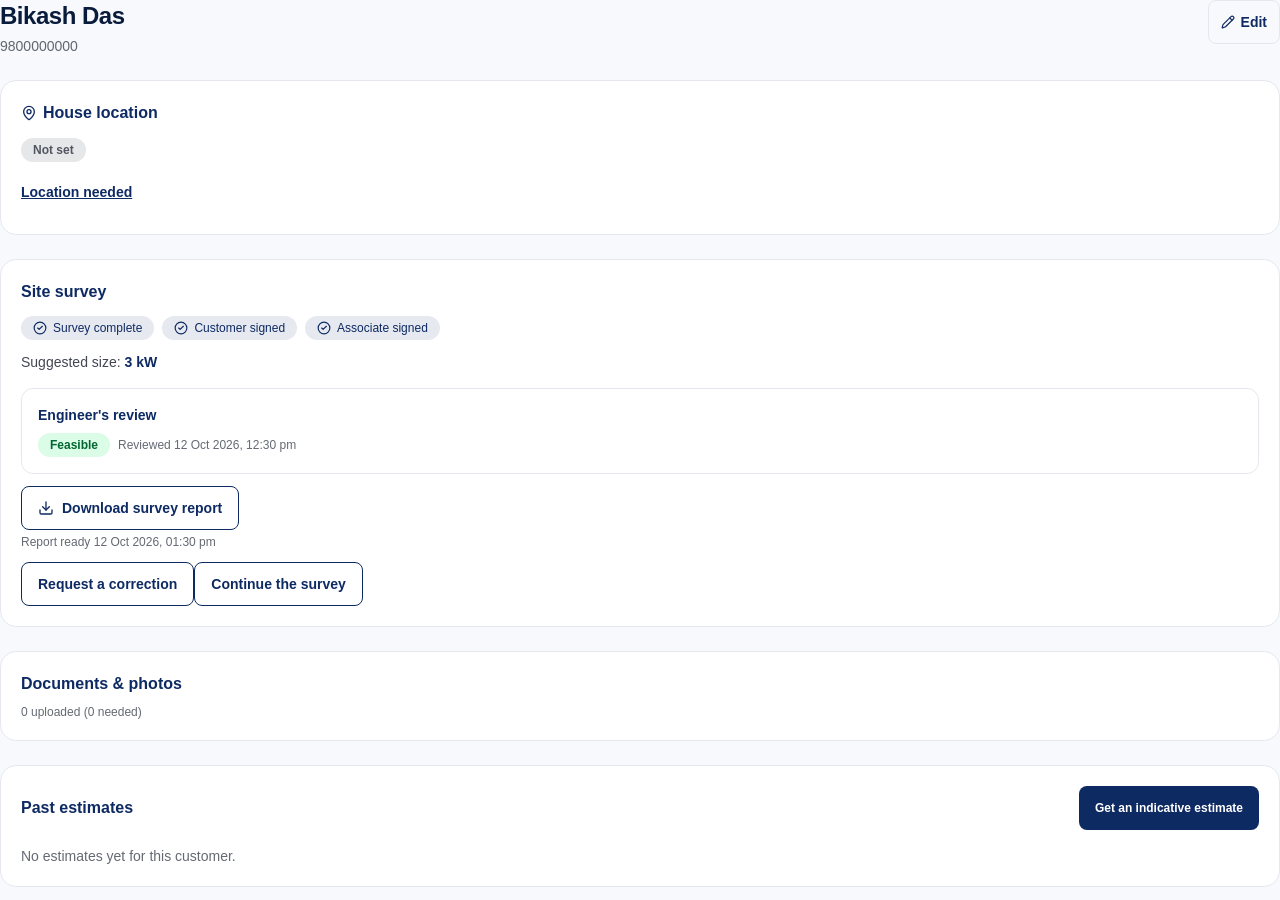
Test case: Report download (owner only) › translates 404 report_not_generated to plain text
This screenshot has width=1280, height=900.
Click the button "Download survey report": (130,508) [21,486,239,530]
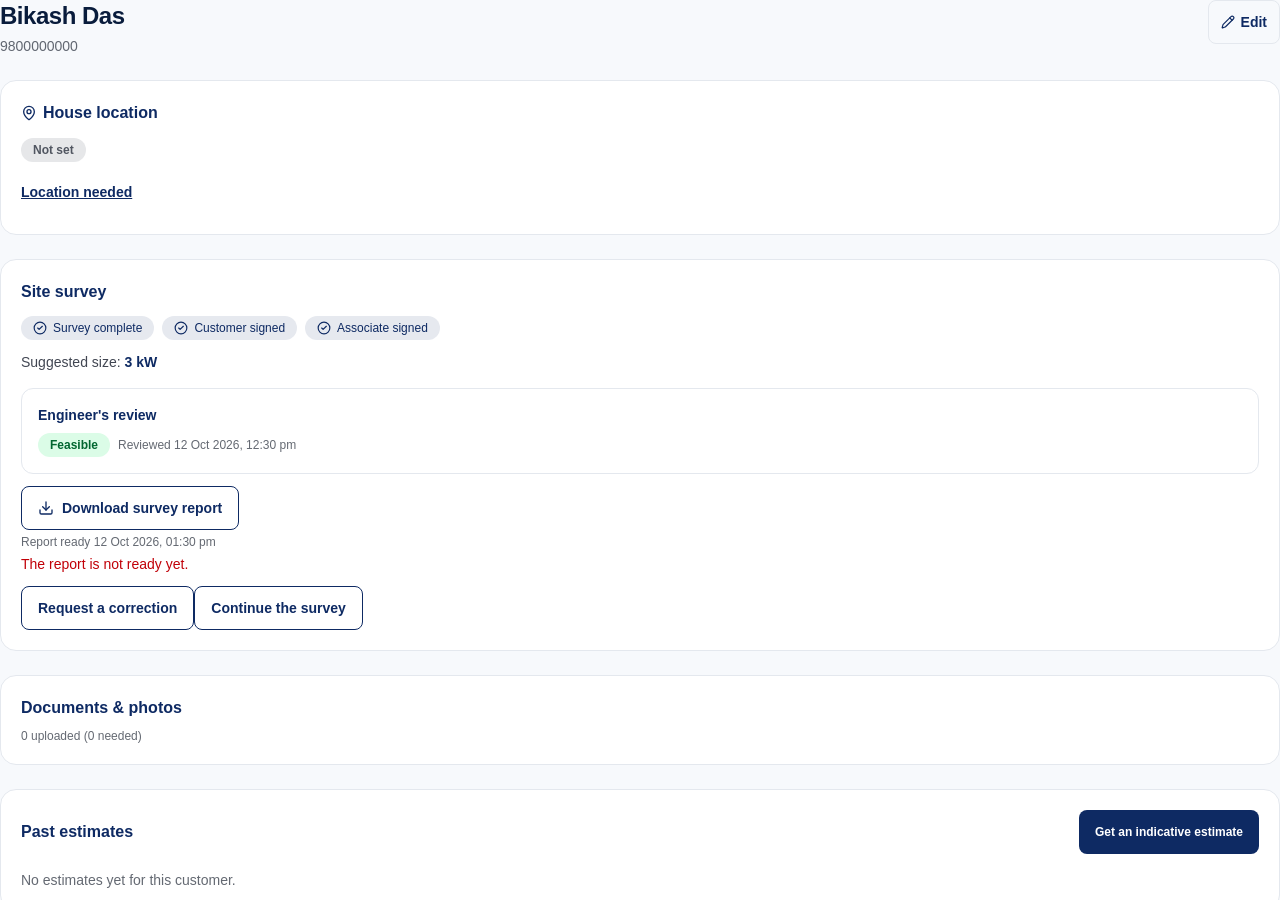
Result: the message reads "The report is not ready yet." at [21,556,188,572]
